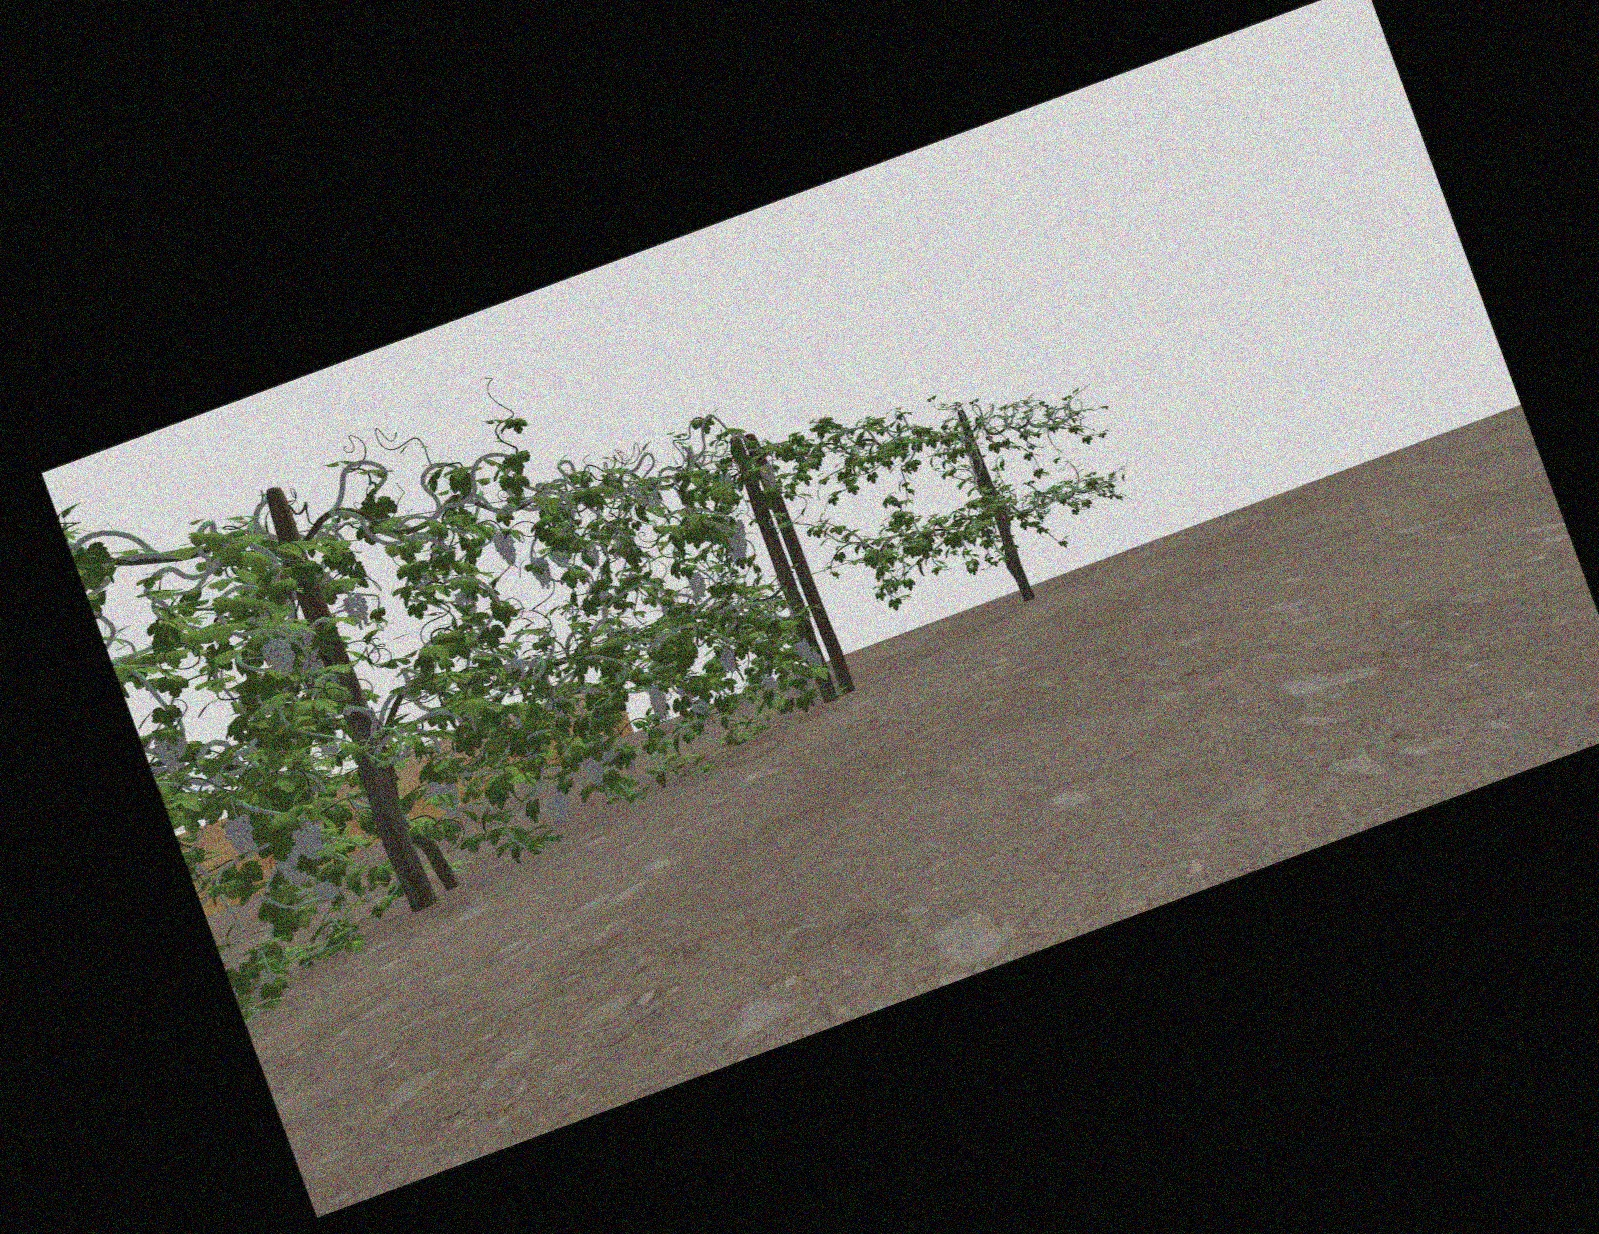grape: (227, 815, 257, 859), (294, 819, 324, 861), (262, 636, 295, 673), (155, 731, 188, 769), (280, 852, 305, 889), (345, 592, 369, 627), (728, 520, 750, 557), (583, 749, 605, 786), (494, 530, 517, 564), (547, 793, 570, 823), (533, 556, 551, 590), (426, 782, 446, 811), (650, 687, 667, 718), (688, 570, 706, 598), (695, 697, 711, 725), (718, 648, 737, 671), (761, 463, 776, 487), (446, 784, 460, 806), (761, 673, 776, 692), (586, 544, 599, 568), (796, 640, 810, 658), (807, 649, 822, 668)
